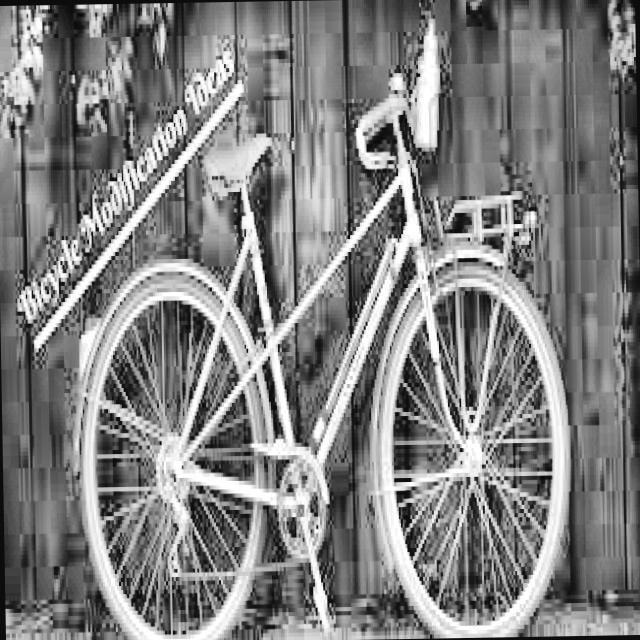bicycle: (54, 89, 584, 636)
